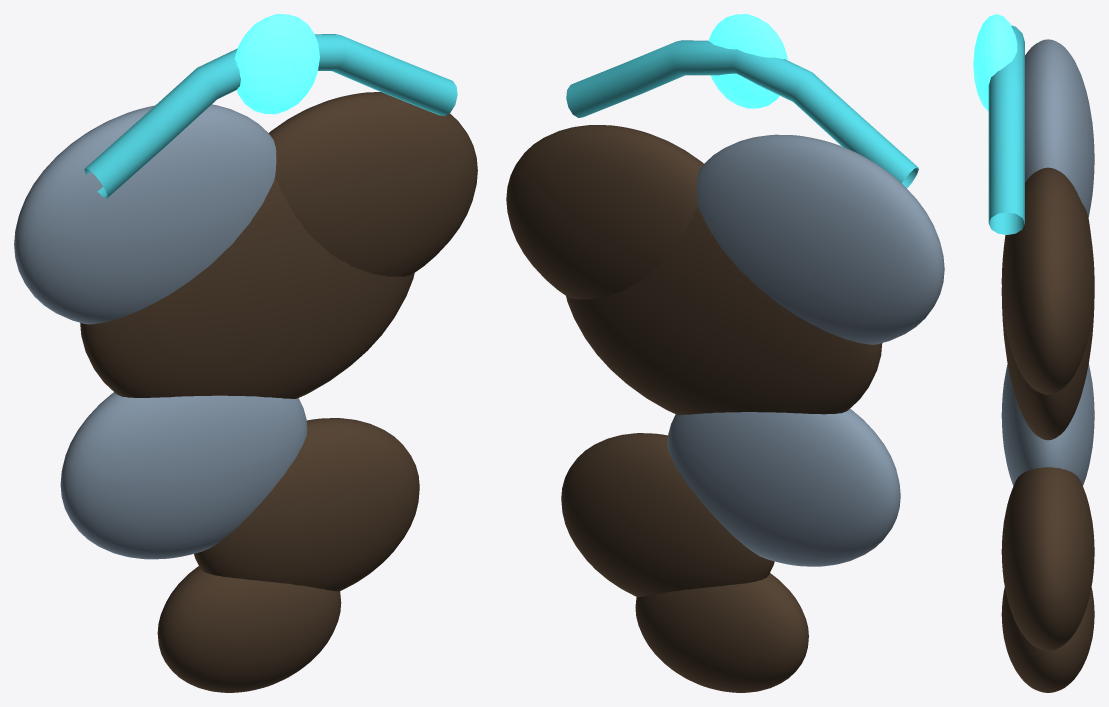
Rendered from cloak_v8.glb.
3 views of the same model, side by side, from view 1: azimuth 30°, elevation 25°; view 2: azimuth 150°, elevation 25°; view 3: azimuth 270°, elevation 25° (orthographic). The views are drawn at different scales.
Visible parts, largest first — view 1: SMOKE_LOBE_SECONDARY, SMOKE_LOBE_PRIMARY, SMOKE_LOBE_PRIMARY.001, SMOKE_LOBE_SECONDARY.001, SMOKE_LOBE_SECONDARY.002, SMOKE_LOBE_SECONDARY.003, SMOKE_TRIM_ACCENT, SMOKE_CLASP_EMISSIVE; view 2: SMOKE_LOBE_PRIMARY, SMOKE_LOBE_SECONDARY, SMOKE_LOBE_PRIMARY.001, SMOKE_LOBE_SECONDARY.001, SMOKE_LOBE_SECONDARY.002, SMOKE_LOBE_SECONDARY.003, SMOKE_TRIM_ACCENT, SMOKE_CLASP_EMISSIVE; view 3: SMOKE_LOBE_SECONDARY.001, SMOKE_LOBE_SECONDARY.002, SMOKE_LOBE_PRIMARY, SMOKE_TRIM_ACCENT, SMOKE_LOBE_PRIMARY.001, SMOKE_LOBE_SECONDARY.003, SMOKE_LOBE_SECONDARY, SMOKE_CLASP_EMISSIVE.
Part boxes in pixels (left/top/right/bottom): SMOKE_LOBE_SECONDARY: left=80, top=177, right=414, bottom=398; SMOKE_LOBE_PRIMARY: left=14, top=104, right=276, bottom=324; SMOKE_LOBE_PRIMARY.001: left=60, top=392, right=307, bottom=559; SMOKE_LOBE_SECONDARY.001: left=269, top=92, right=477, bottom=276; SMOKE_LOBE_SECONDARY.002: left=194, top=418, right=419, bottom=591; SMOKE_LOBE_SECONDARY.003: left=157, top=566, right=341, bottom=692; SMOKE_TRIM_ACCENT: left=84, top=34, right=457, bottom=198; SMOKE_CLASP_EMISSIVE: left=234, top=14, right=319, bottom=114; SMOKE_LOBE_PRIMARY: left=696, top=134, right=944, bottom=344; SMOKE_LOBE_SECONDARY: left=566, top=206, right=882, bottom=415; SMOKE_LOBE_PRIMARY.001: left=667, top=409, right=900, bottom=566; SMOKE_LOBE_SECONDARY.001: left=506, top=125, right=703, bottom=299; SMOKE_LOBE_SECONDARY.002: left=561, top=433, right=774, bottom=596; SMOKE_LOBE_SECONDARY.003: left=635, top=573, right=808, bottom=692; SMOKE_TRIM_ACCENT: left=566, top=40, right=918, bottom=188; SMOKE_CLASP_EMISSIVE: left=708, top=14, right=787, bottom=108; SMOKE_LOBE_SECONDARY.001: left=1001, top=167, right=1094, bottom=394; SMOKE_LOBE_SECONDARY.002: left=1001, top=467, right=1094, bottom=650; SMOKE_LOBE_PRIMARY: left=1025, top=39, right=1094, bottom=217; SMOKE_TRIM_ACCENT: left=988, top=25, right=1024, bottom=234; SMOKE_LOBE_PRIMARY.001: left=1001, top=364, right=1094, bottom=485; SMOKE_LOBE_SECONDARY.003: left=1001, top=587, right=1094, bottom=692; SMOKE_LOBE_SECONDARY: left=1001, top=202, right=1094, bottom=440; SMOKE_CLASP_EMISSIVE: left=973, top=14, right=1017, bottom=111.
Bounding box in the file's own units: 1.97 × 2.84 × 0.47.
